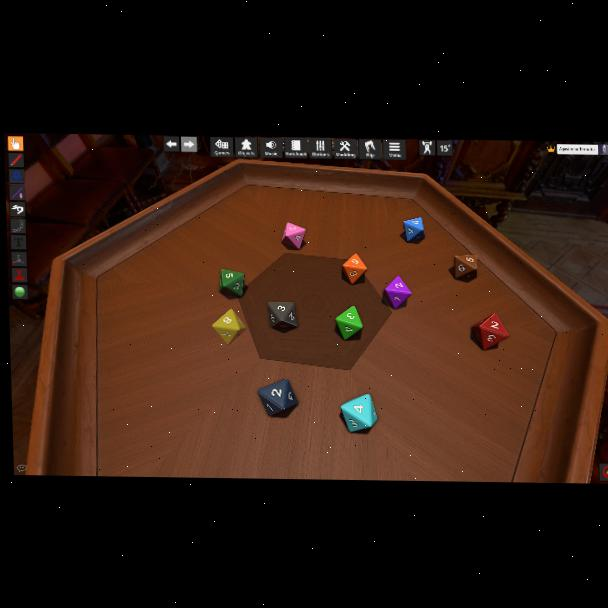d8: (258, 378, 300, 416), (340, 393, 378, 431), (471, 312, 508, 350), (212, 309, 247, 346), (335, 306, 364, 340), (384, 276, 411, 308), (267, 302, 297, 330), (341, 253, 367, 285), (219, 268, 245, 297), (281, 223, 306, 250), (453, 255, 477, 281), (404, 217, 424, 243)
